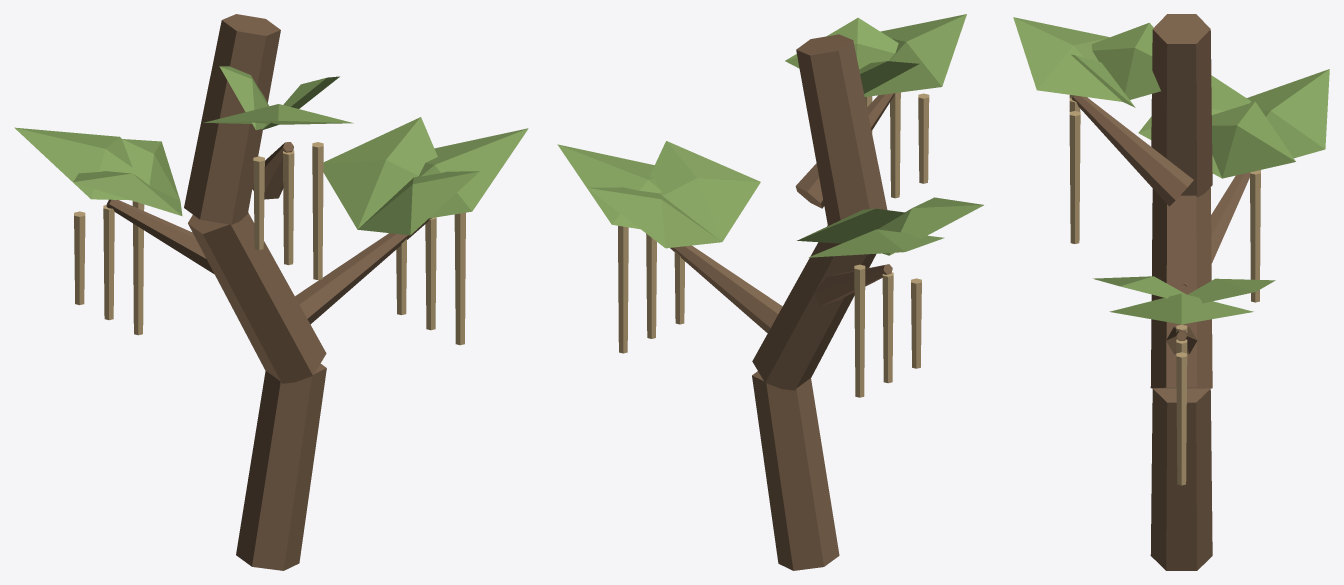
The model's file is map-exclusive-v3__meadow_01.glb.
The picture shows the model from 3 angles, left to right: view 1: azimuth 30°, elevation 25°; view 2: azimuth 150°, elevation 25°; view 3: azimuth 270°, elevation 25°; orthographic projection. The views are drawn at different scales.
Visible parts, largest first — view 1: meadow_01; view 2: meadow_01; view 3: meadow_01.
Boxes of the visible parts, box(x1,y1,x2,y2) form: meadow_01: box(14, 14, 528, 570); meadow_01: box(557, 14, 983, 570); meadow_01: box(1013, 14, 1329, 570).
Size of the model in its own units: 2.75 by 3.2 by 1.74.
